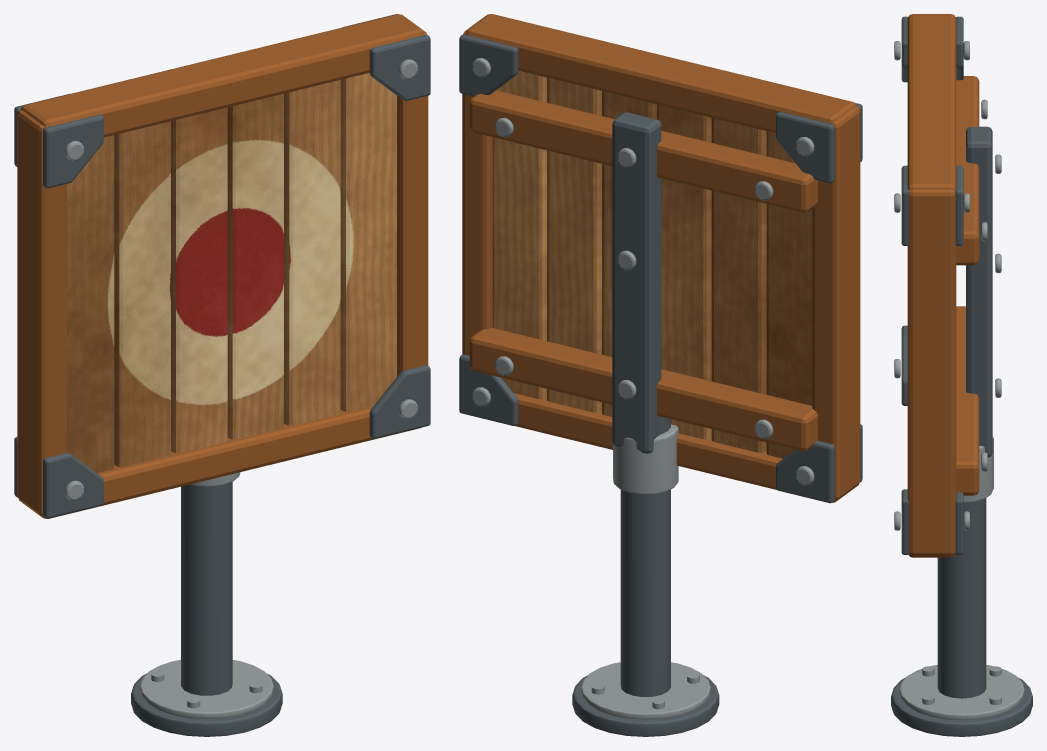
File: wsc-prop-025-bullseye-target.glb
3 views of the same model, side by side, from view 1: azimuth 30°, elevation 25°; view 2: azimuth 150°, elevation 25°; view 3: azimuth 270°, elevation 25° (orthographic). The views are drawn at different scales.
Parts seen in each view (by area): view 1: wsc-prop-025-bullseye-target; view 2: wsc-prop-025-bullseye-target; view 3: wsc-prop-025-bullseye-target.
Boxes of the visible parts, <box> form: wsc-prop-025-bullseye-target: <box>14,14,430,736</box>; wsc-prop-025-bullseye-target: <box>459,14,862,736</box>; wsc-prop-025-bullseye-target: <box>891,14,1032,736</box>.
Bounding box in the file's own units: 1.19 × 1.9 × 0.402.
Materials: 5 (2 with a texture image).
